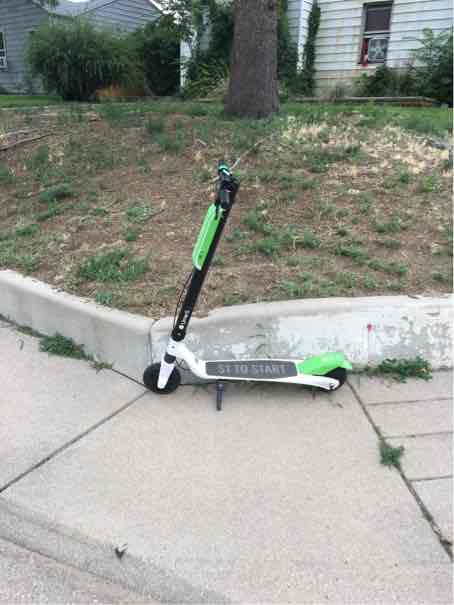scooter: (141, 142, 355, 408)
